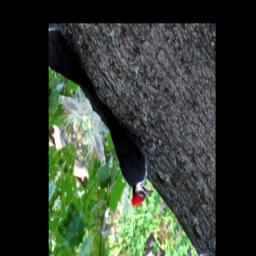Woodpecker: (81, 78, 169, 220)
